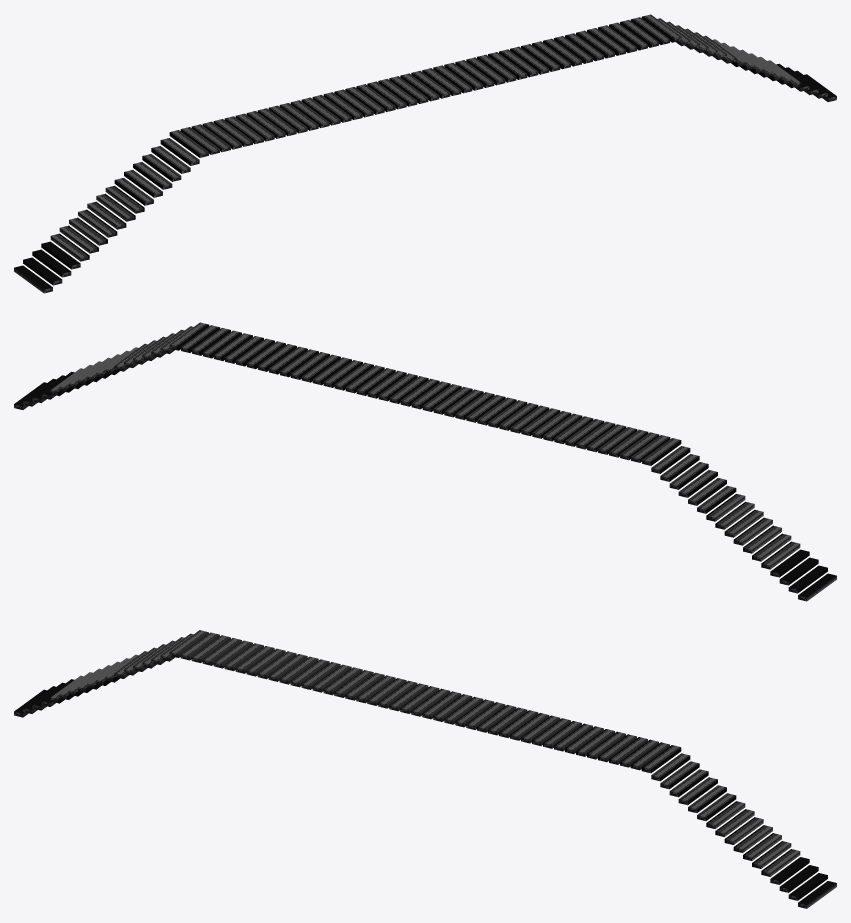
Rendered from balcony.glb.
3 views of the same model, one above another, from view 1: azimuth 30°, elevation 25°; view 2: azimuth 150°, elevation 25°; view 3: azimuth 330°, elevation 25° (orthographic).
Visible parts, largest first — view 1: balcony; view 2: balcony; view 3: balcony.
Boxes of the visible parts, bbox=[...] form: balcony: bbox=[14, 14, 836, 293]; balcony: bbox=[14, 322, 836, 601]; balcony: bbox=[14, 630, 836, 908].
Bounding box in the file's own units: 2.19 × 0.2686 × 0.1438.
Materials: 1 (1 with a texture image).
